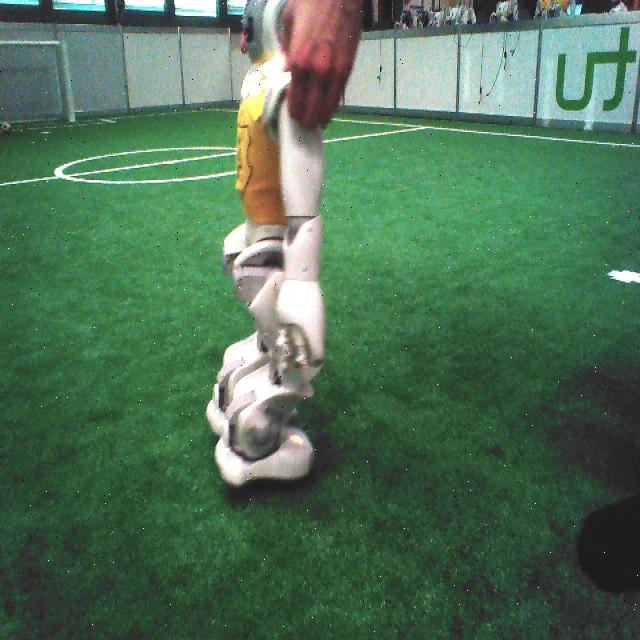ball: (0, 120, 11, 133)
goalpost: (55, 36, 77, 124)
